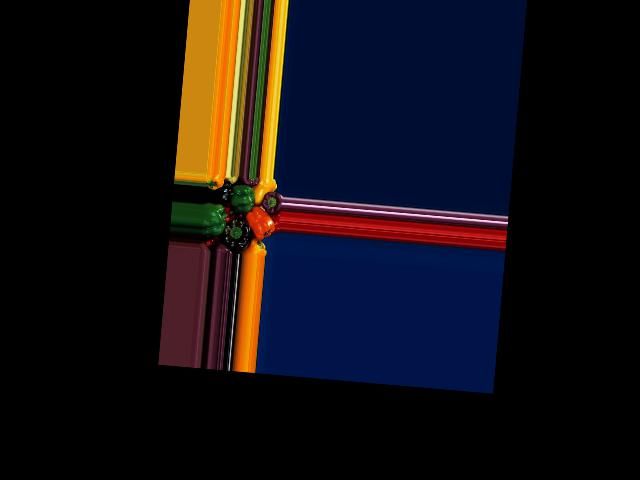bell_pepper: (200, 203, 224, 238)
